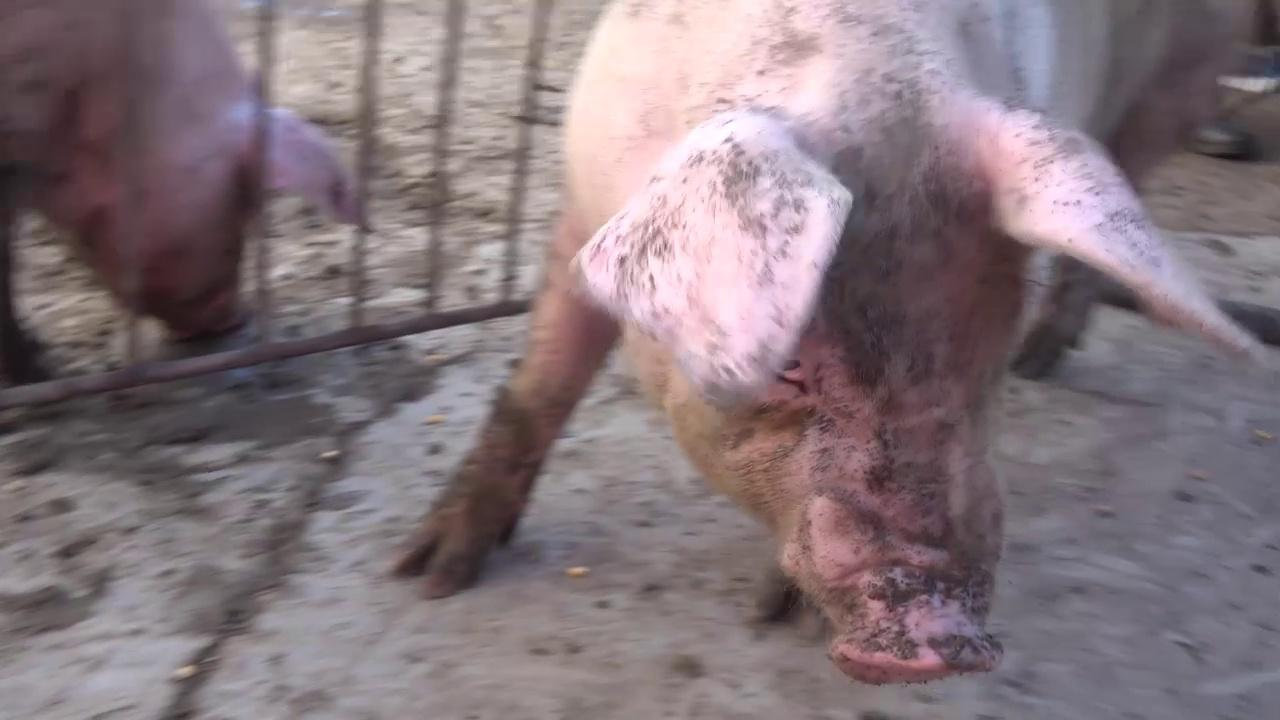Face: (576, 92, 1266, 691)
